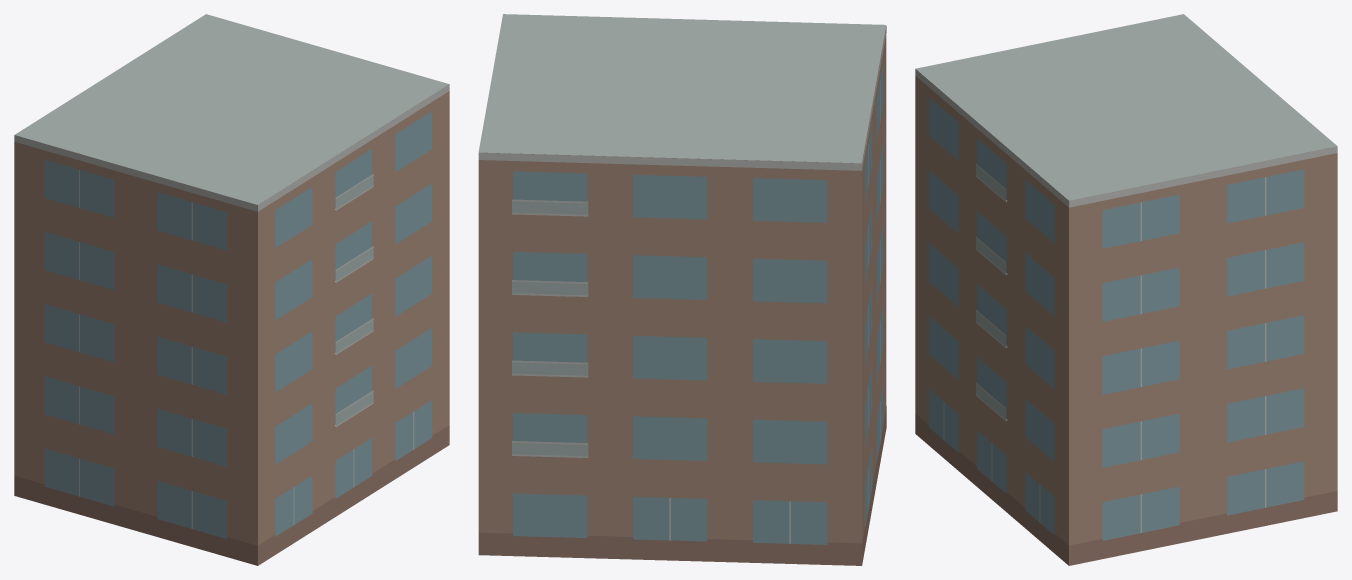
Rendered from survey-upis-32650662.glb.
The picture shows the model from 3 angles, left to right: view 1: azimuth 30°, elevation 25°; view 2: azimuth 150°, elevation 25°; view 3: azimuth 270°, elevation 25°; orthographic projection. The views are drawn at different scales.
Parts seen in each view (by area): view 1: survey-upis-32650662.tmp; view 2: survey-upis-32650662.tmp; view 3: survey-upis-32650662.tmp.
Boxes of the visible parts, <box> form: survey-upis-32650662.tmp: <box>14,14,449,565</box>; survey-upis-32650662.tmp: <box>478,14,886,565</box>; survey-upis-32650662.tmp: <box>915,14,1337,565</box>.
Bounding box in the file's own units: 14.39 × 13.1 × 13.74.
